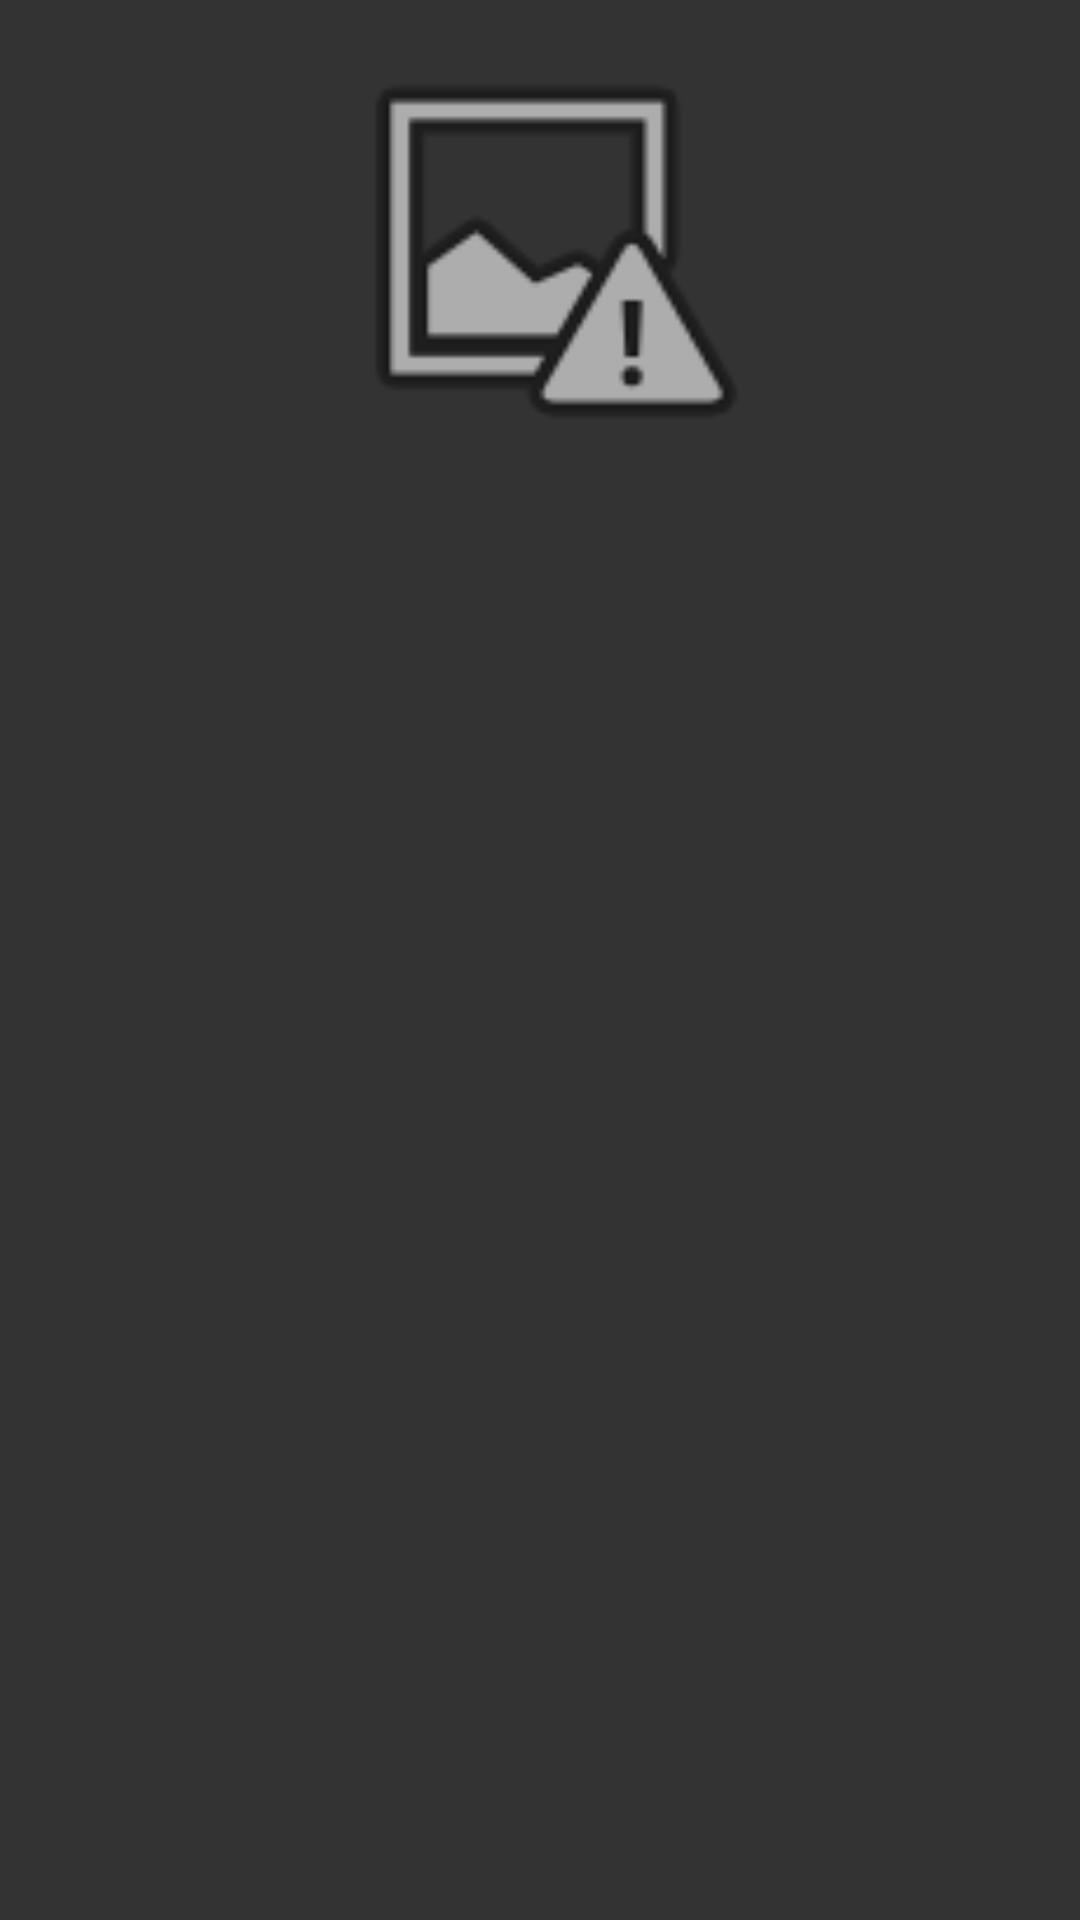

Where icons sit on this 1080x1920 app screen, as region(x1, y1, x2, y2):
report: region(385, 101, 727, 408)
